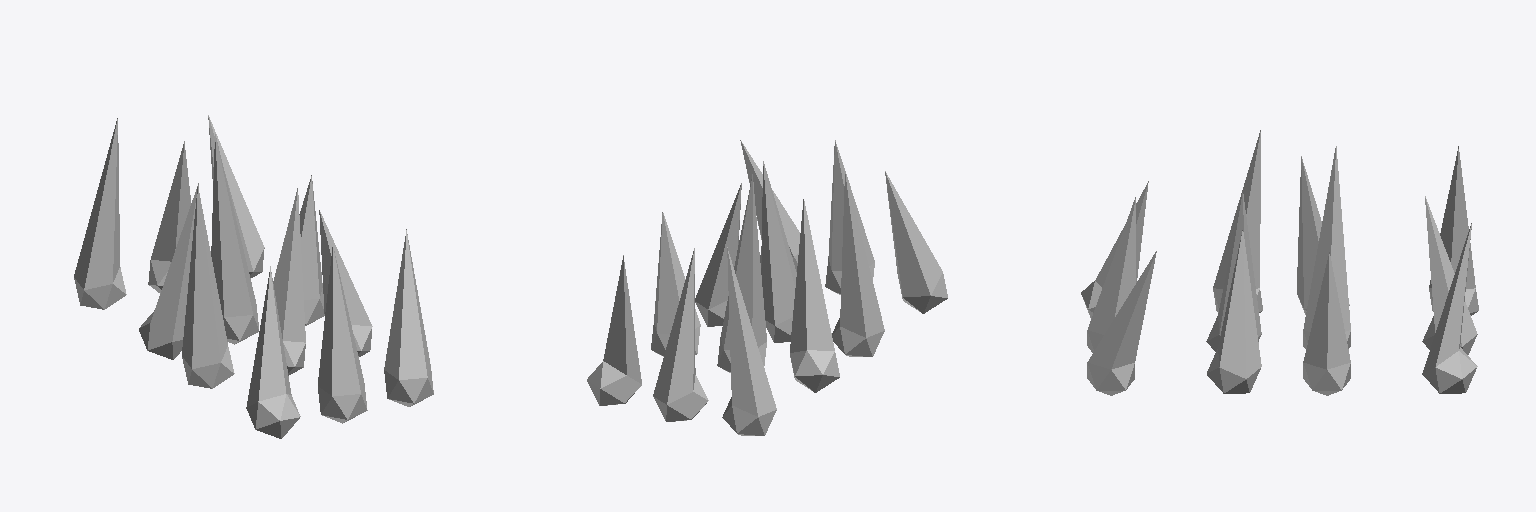
File: crop_seeds3.obj
The picture shows the model from 3 angles: view 1: azimuth 30°, elevation 25°; view 2: azimuth 150°, elevation 25°; view 3: azimuth 270°, elevation 25°; orthographic projection.
Parts seen in each view (by area): view 1: Icosphere.002; view 2: Icosphere.002; view 3: Icosphere.002.
Part boxes in pixels (left/top/right/bottom): Icosphere.002: left=74, top=115, right=433, bottom=438; Icosphere.002: left=587, top=140, right=947, bottom=435; Icosphere.002: left=1081, top=130, right=1478, bottom=395.
Bounding box in the file's own units: 7.43 × 8.36 × 14.18.